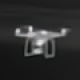plane: (13, 21, 75, 60)
